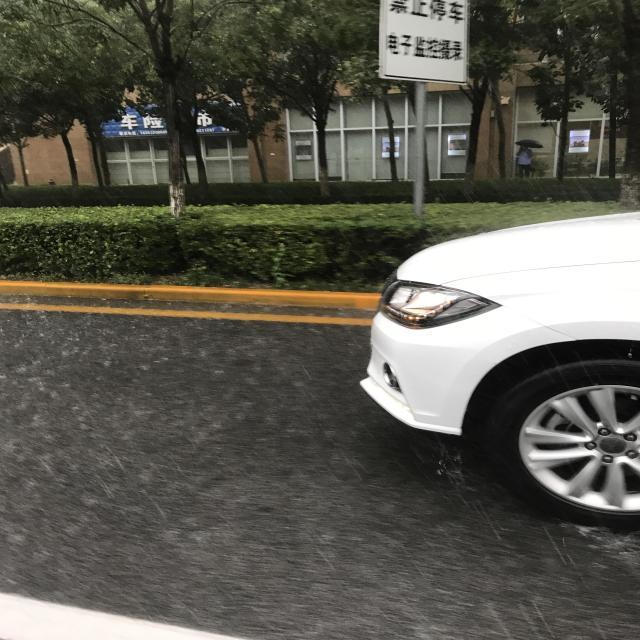car: (206, 0, 531, 284)
